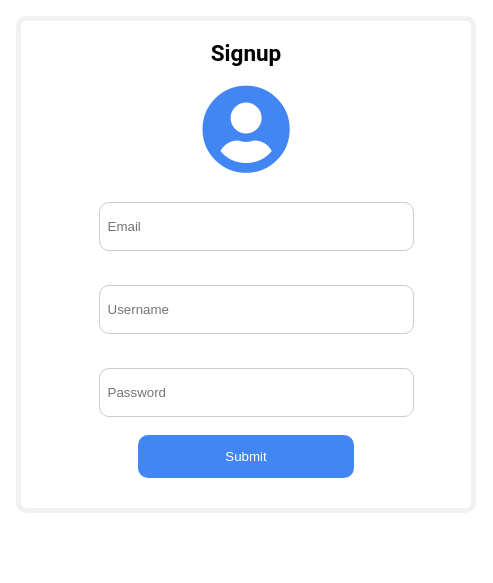
Signup Page › error message if invalid email
In the field with placeholder "Email": (256,227) [98,202,414,251], type "test@email.com"
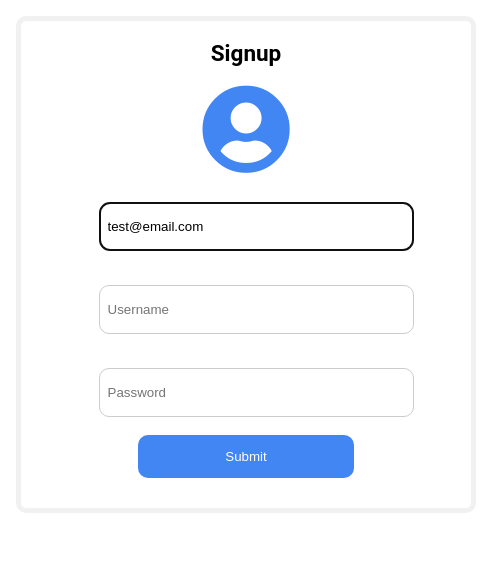
In the field with placeholder "Username": (256,310) [98,285,414,334], type "TestUsername"
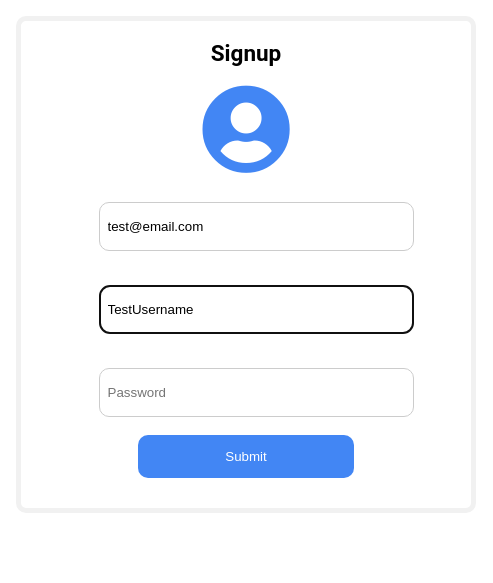
In the password field with placeholder "Password": (256,393) [98,368,414,417], type "1234"
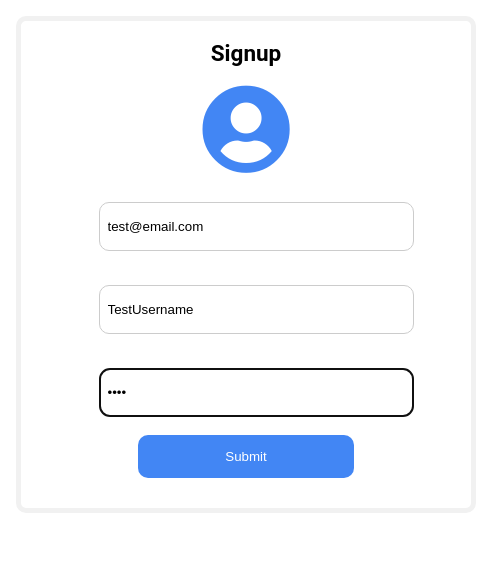
Click the button: (246,457) [138,435,354,478]
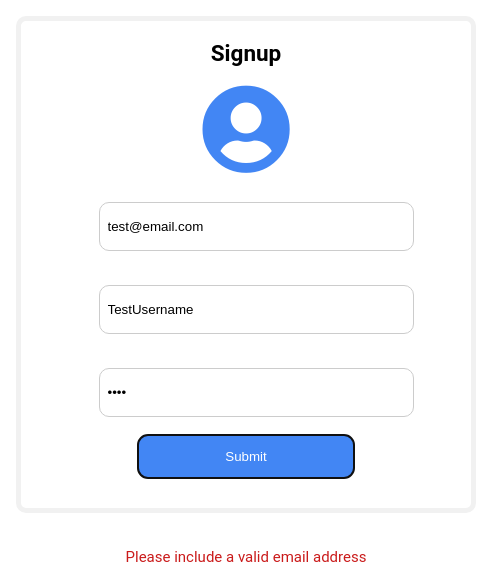
Expected: the text "Please include a valid email address" is shown, [126,548,366,566]
